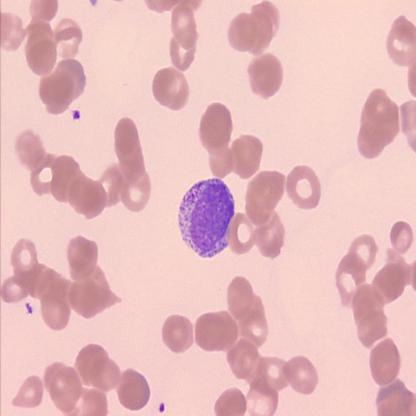Myelocyte: (176, 179, 238, 259)
